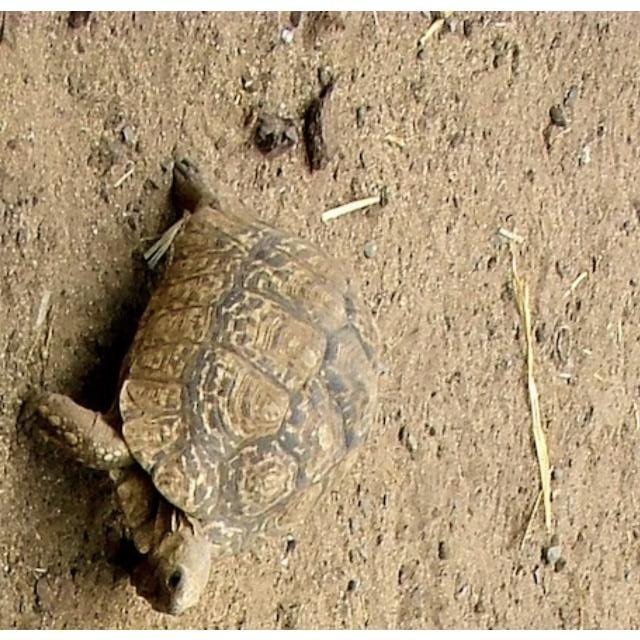turtle: (16, 154, 381, 616)
